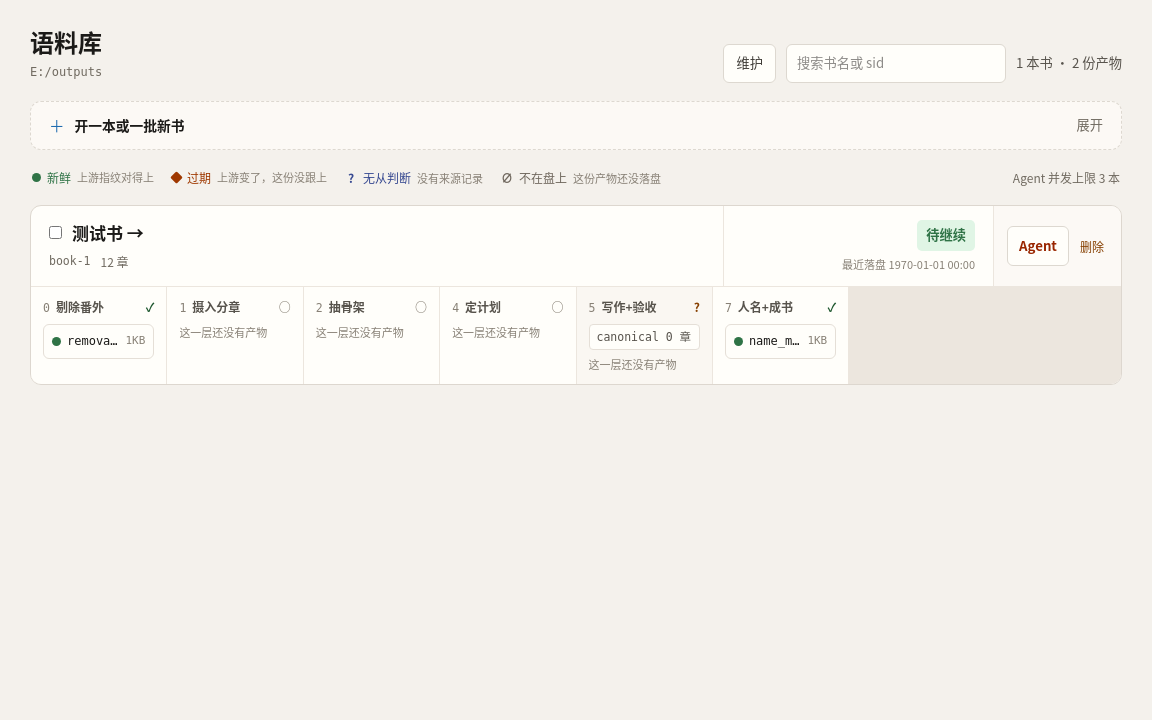
Test: CorpusScreen 批量开书 › 语料库只保留操作与符号状态，不重复解释流程和下一步
Expected: the button "测试书 →" is shown, [72, 220, 144, 246]
Expected: the field named "按 sid 或书名过滤" is shown, [786, 44, 1006, 83]
Click the button "＋ 开一本或一批新书 展开".
click(130, 125)  # box [30, 101, 1122, 150]
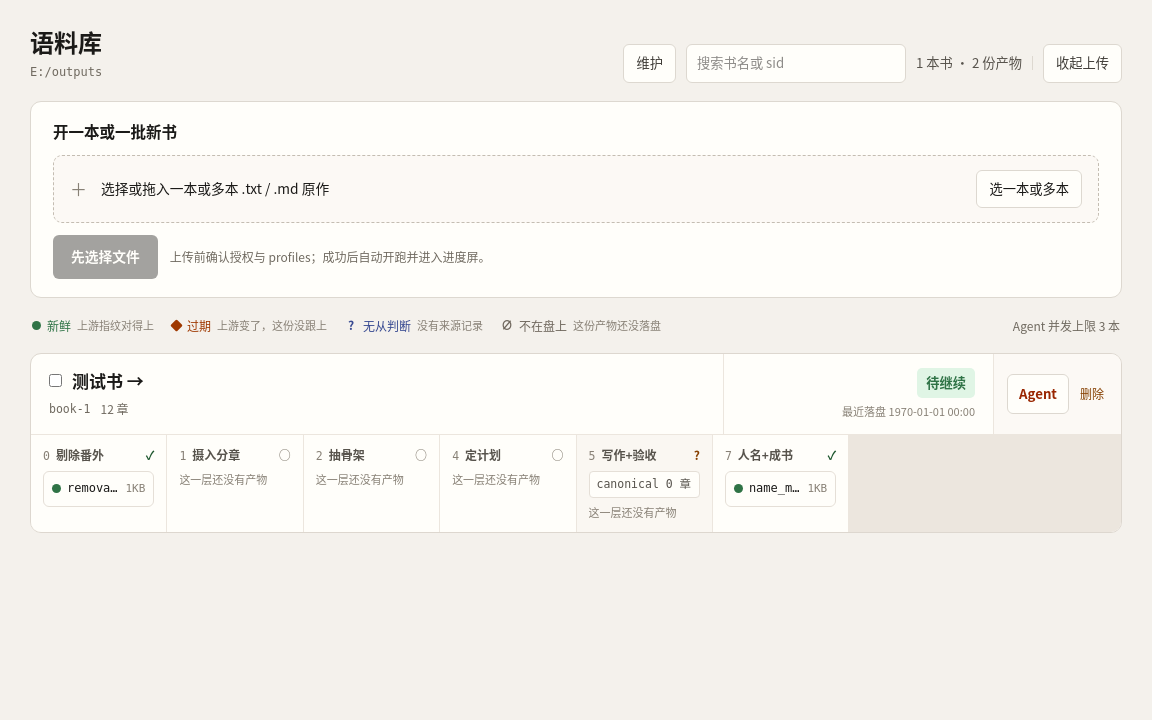
Expected: the button "Agent" is shown, [1007, 374, 1069, 414]
Now the text "选择或拖入一本或多本 .txt / .md 原作" is shown, box [101, 176, 329, 202]
